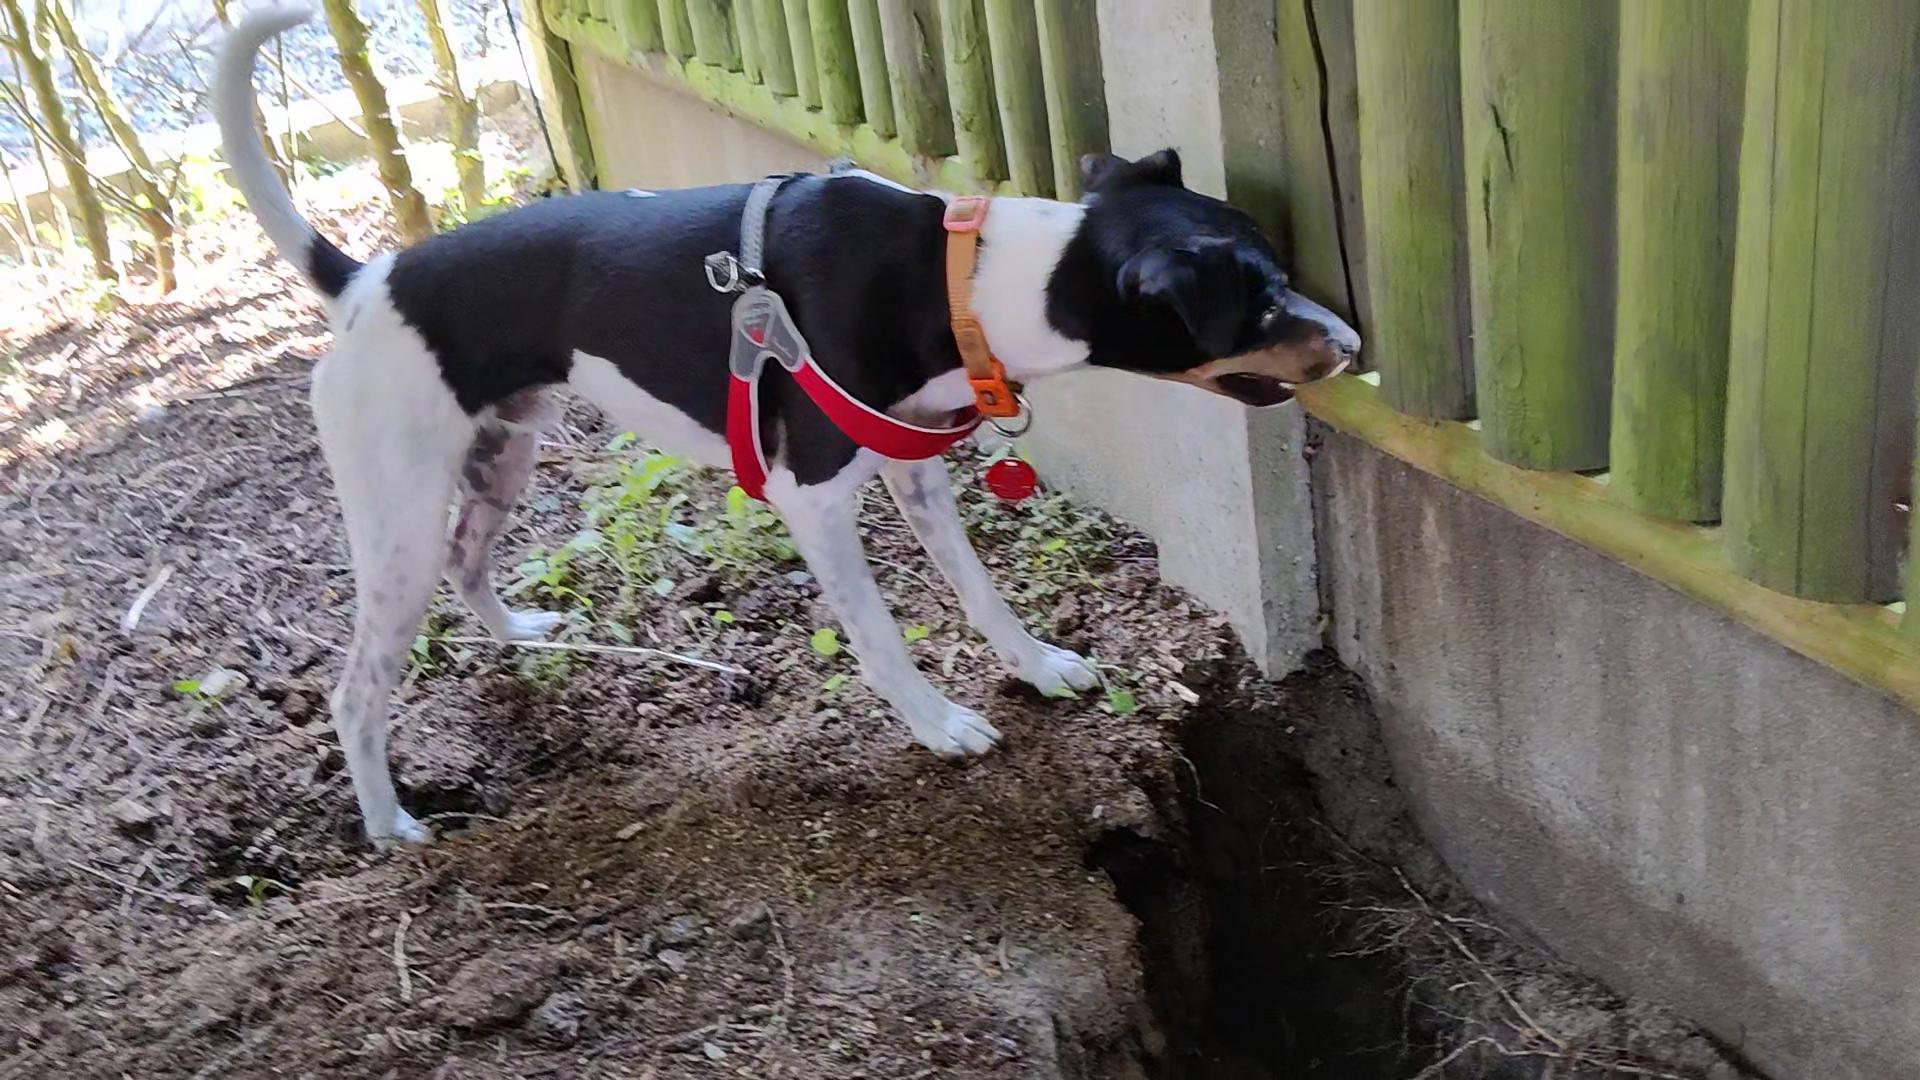Dog: (193, 0, 1371, 852)
